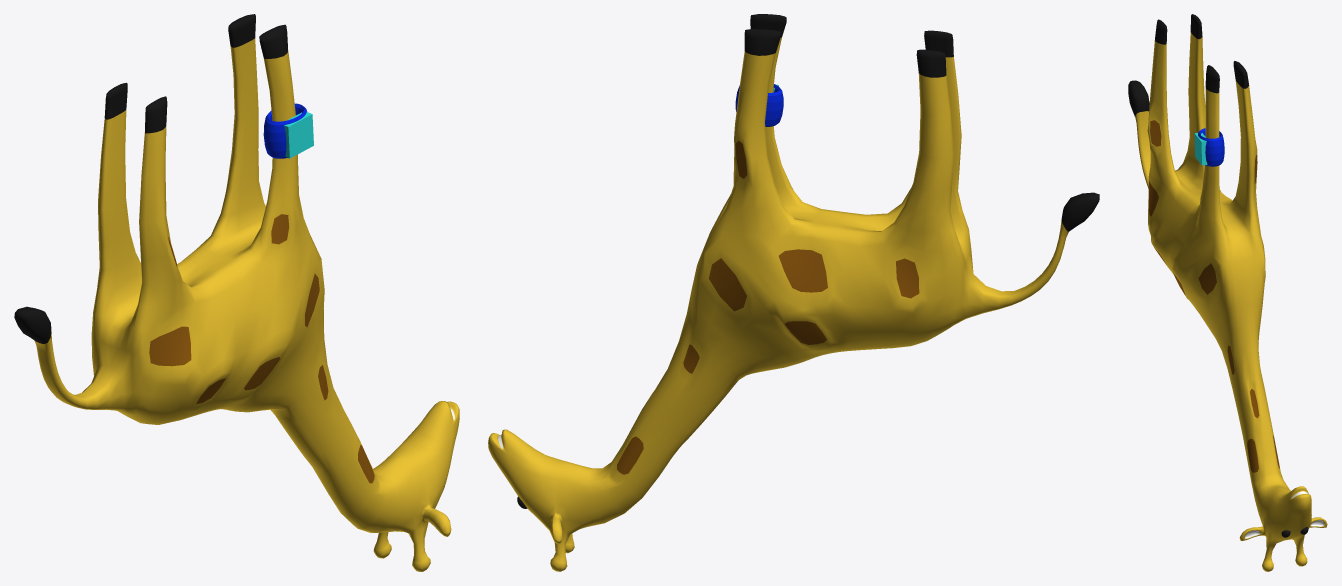
The model's file is giraffeOmgedraaid4.glb.
3 views of the same model, side by side, from view 1: azimuth 30°, elevation 25°; view 2: azimuth 150°, elevation 25°; view 3: azimuth 270°, elevation 25° (orthographic). The views are drawn at different scales.
Visible parts, largest first — view 1: Plane, Torus, Cube; view 2: Plane; view 3: Plane, Torus, Cube.
Part boxes in pixels (x1,y1,x2,y2): Plane: [14, 14, 459, 571]; Torus: [263, 103, 307, 158]; Cube: [284, 112, 313, 158]; Plane: [488, 14, 1099, 571]; Plane: [1128, 14, 1327, 571]; Torus: [1198, 128, 1224, 166]; Cube: [1194, 133, 1207, 165].
Bounding box in the file's own units: 2.2 × 2.31 × 0.9549.
